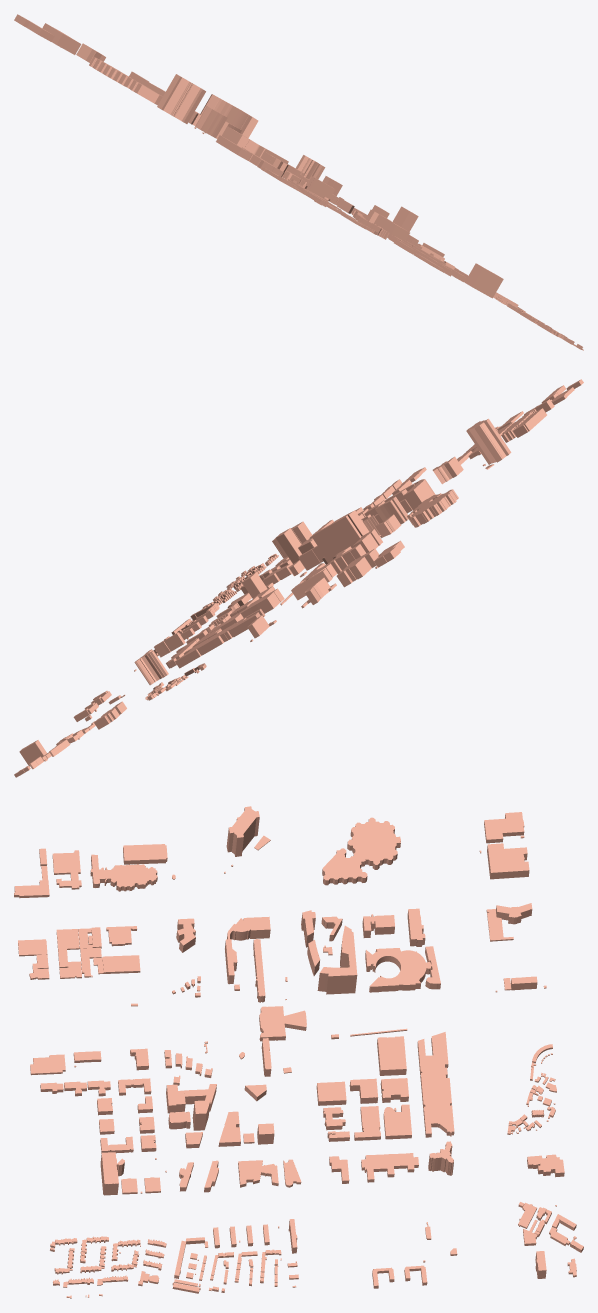
3 renders of one model, top to bottom at view 1: azimuth 30°, elevation 25°; view 2: azimuth 150°, elevation 25°; view 3: azimuth 270°, elevation 25°, orthographic. The views are drawn at different scales.
Bounding box in the file's own units: 1040 × 808 × 1300.
